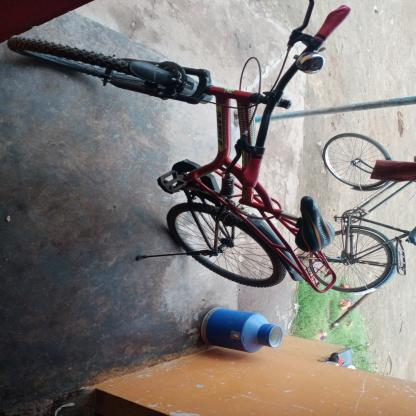bike: (1, 1, 330, 349), (318, 116, 415, 313)
